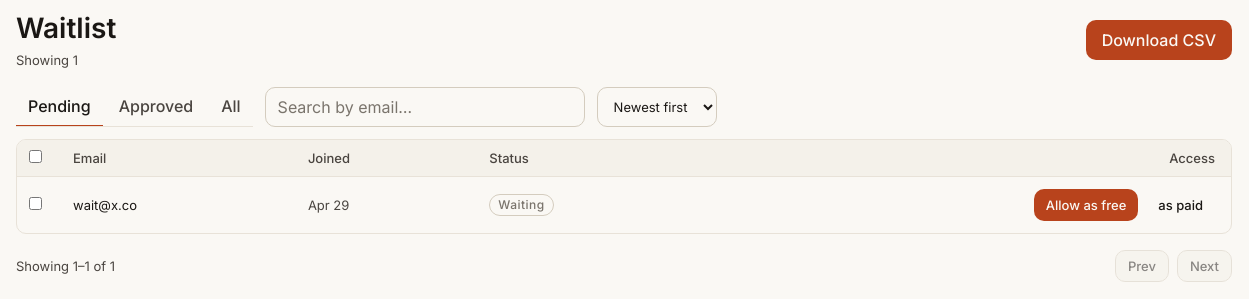
Test: /admin/waitlist — WaitlistView › shows 'Waiting' + 'Allow as free' for an un-approved entry, and approves as free on click
The width and height of the screenshot is (1249, 299).
Check: the text "Waiting" is shown, box [489, 194, 554, 216]
Click the button "Allow as free": point(1086, 205) [1034, 189, 1138, 221]
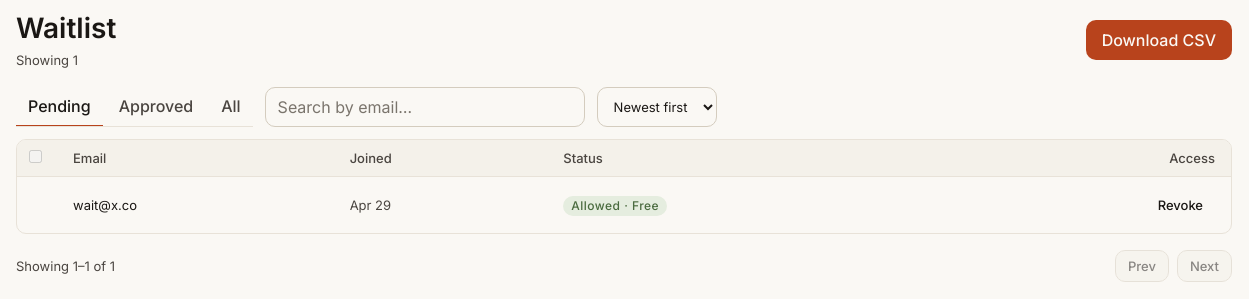
Check: the text "Allowed · Free" is shown, box [563, 196, 667, 216]
